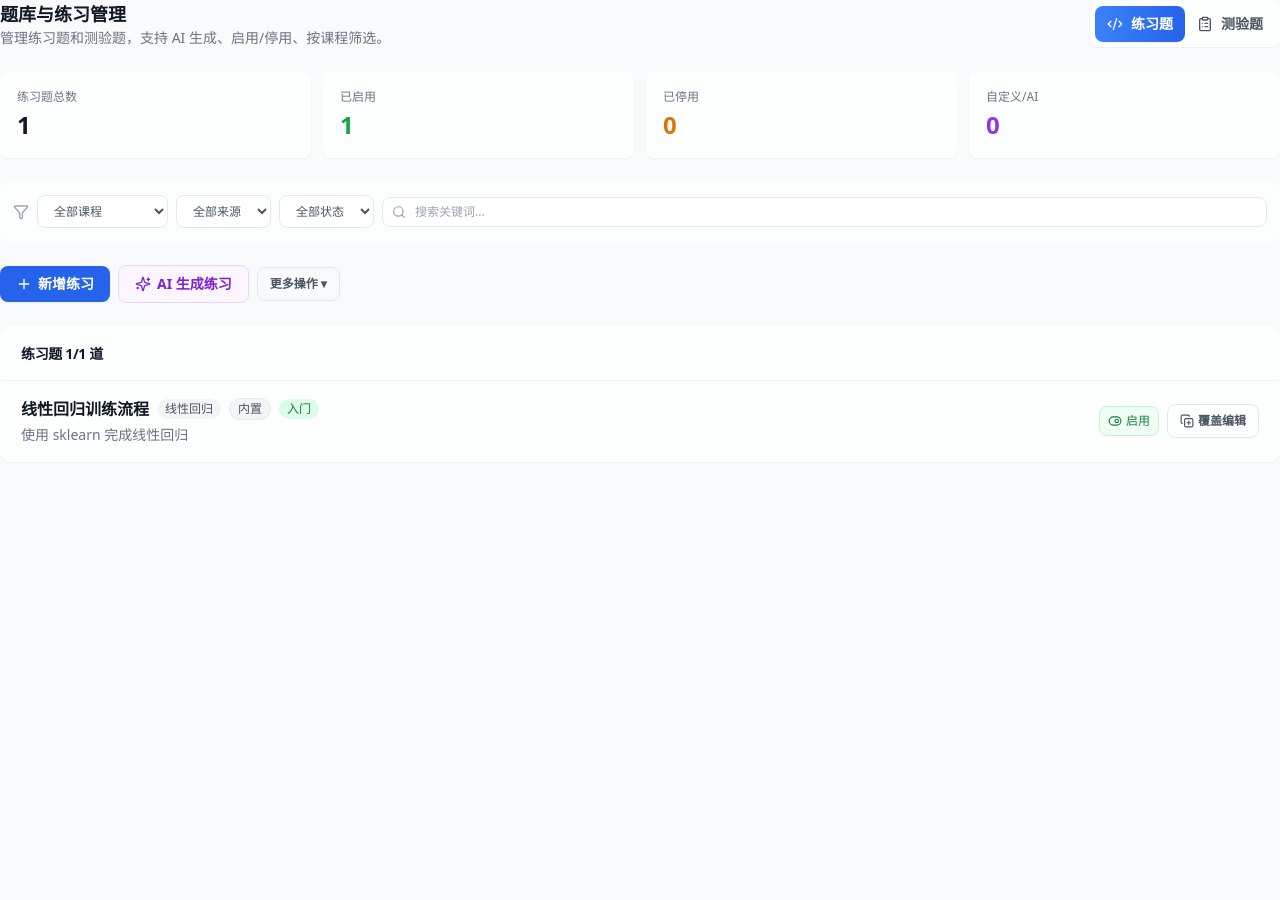
AdminQuestionPanel › 新增练习题 › 点击"新增练习"按钮打开表单弹窗
The image size is (1280, 900).
Click the button "新增练习": click(55, 284) [0, 266, 110, 302]
(page scrolled)
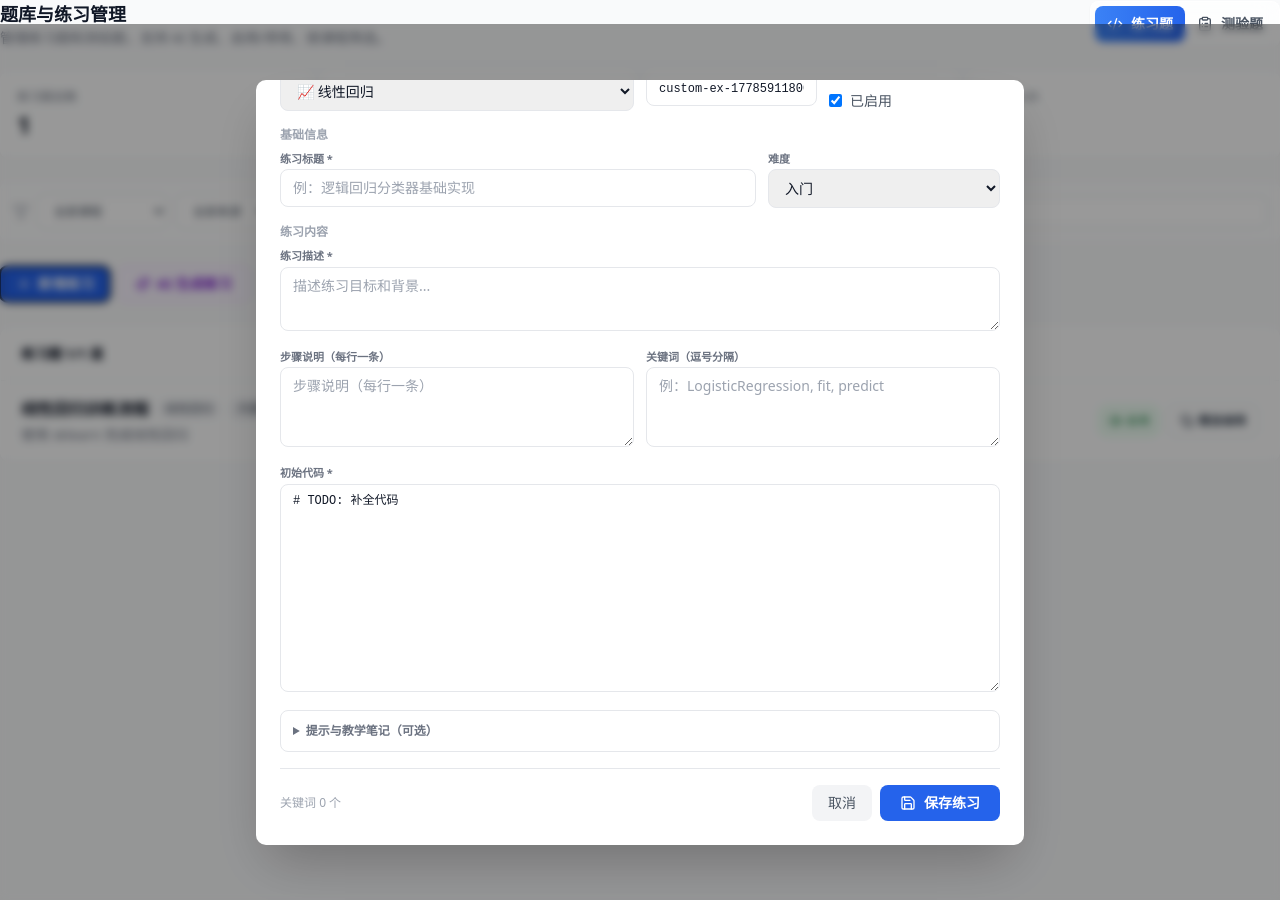
Check: the button "保存练习" is shown, box [880, 784, 1000, 820]
Check: the button "取消" is shown, box [812, 784, 872, 820]
